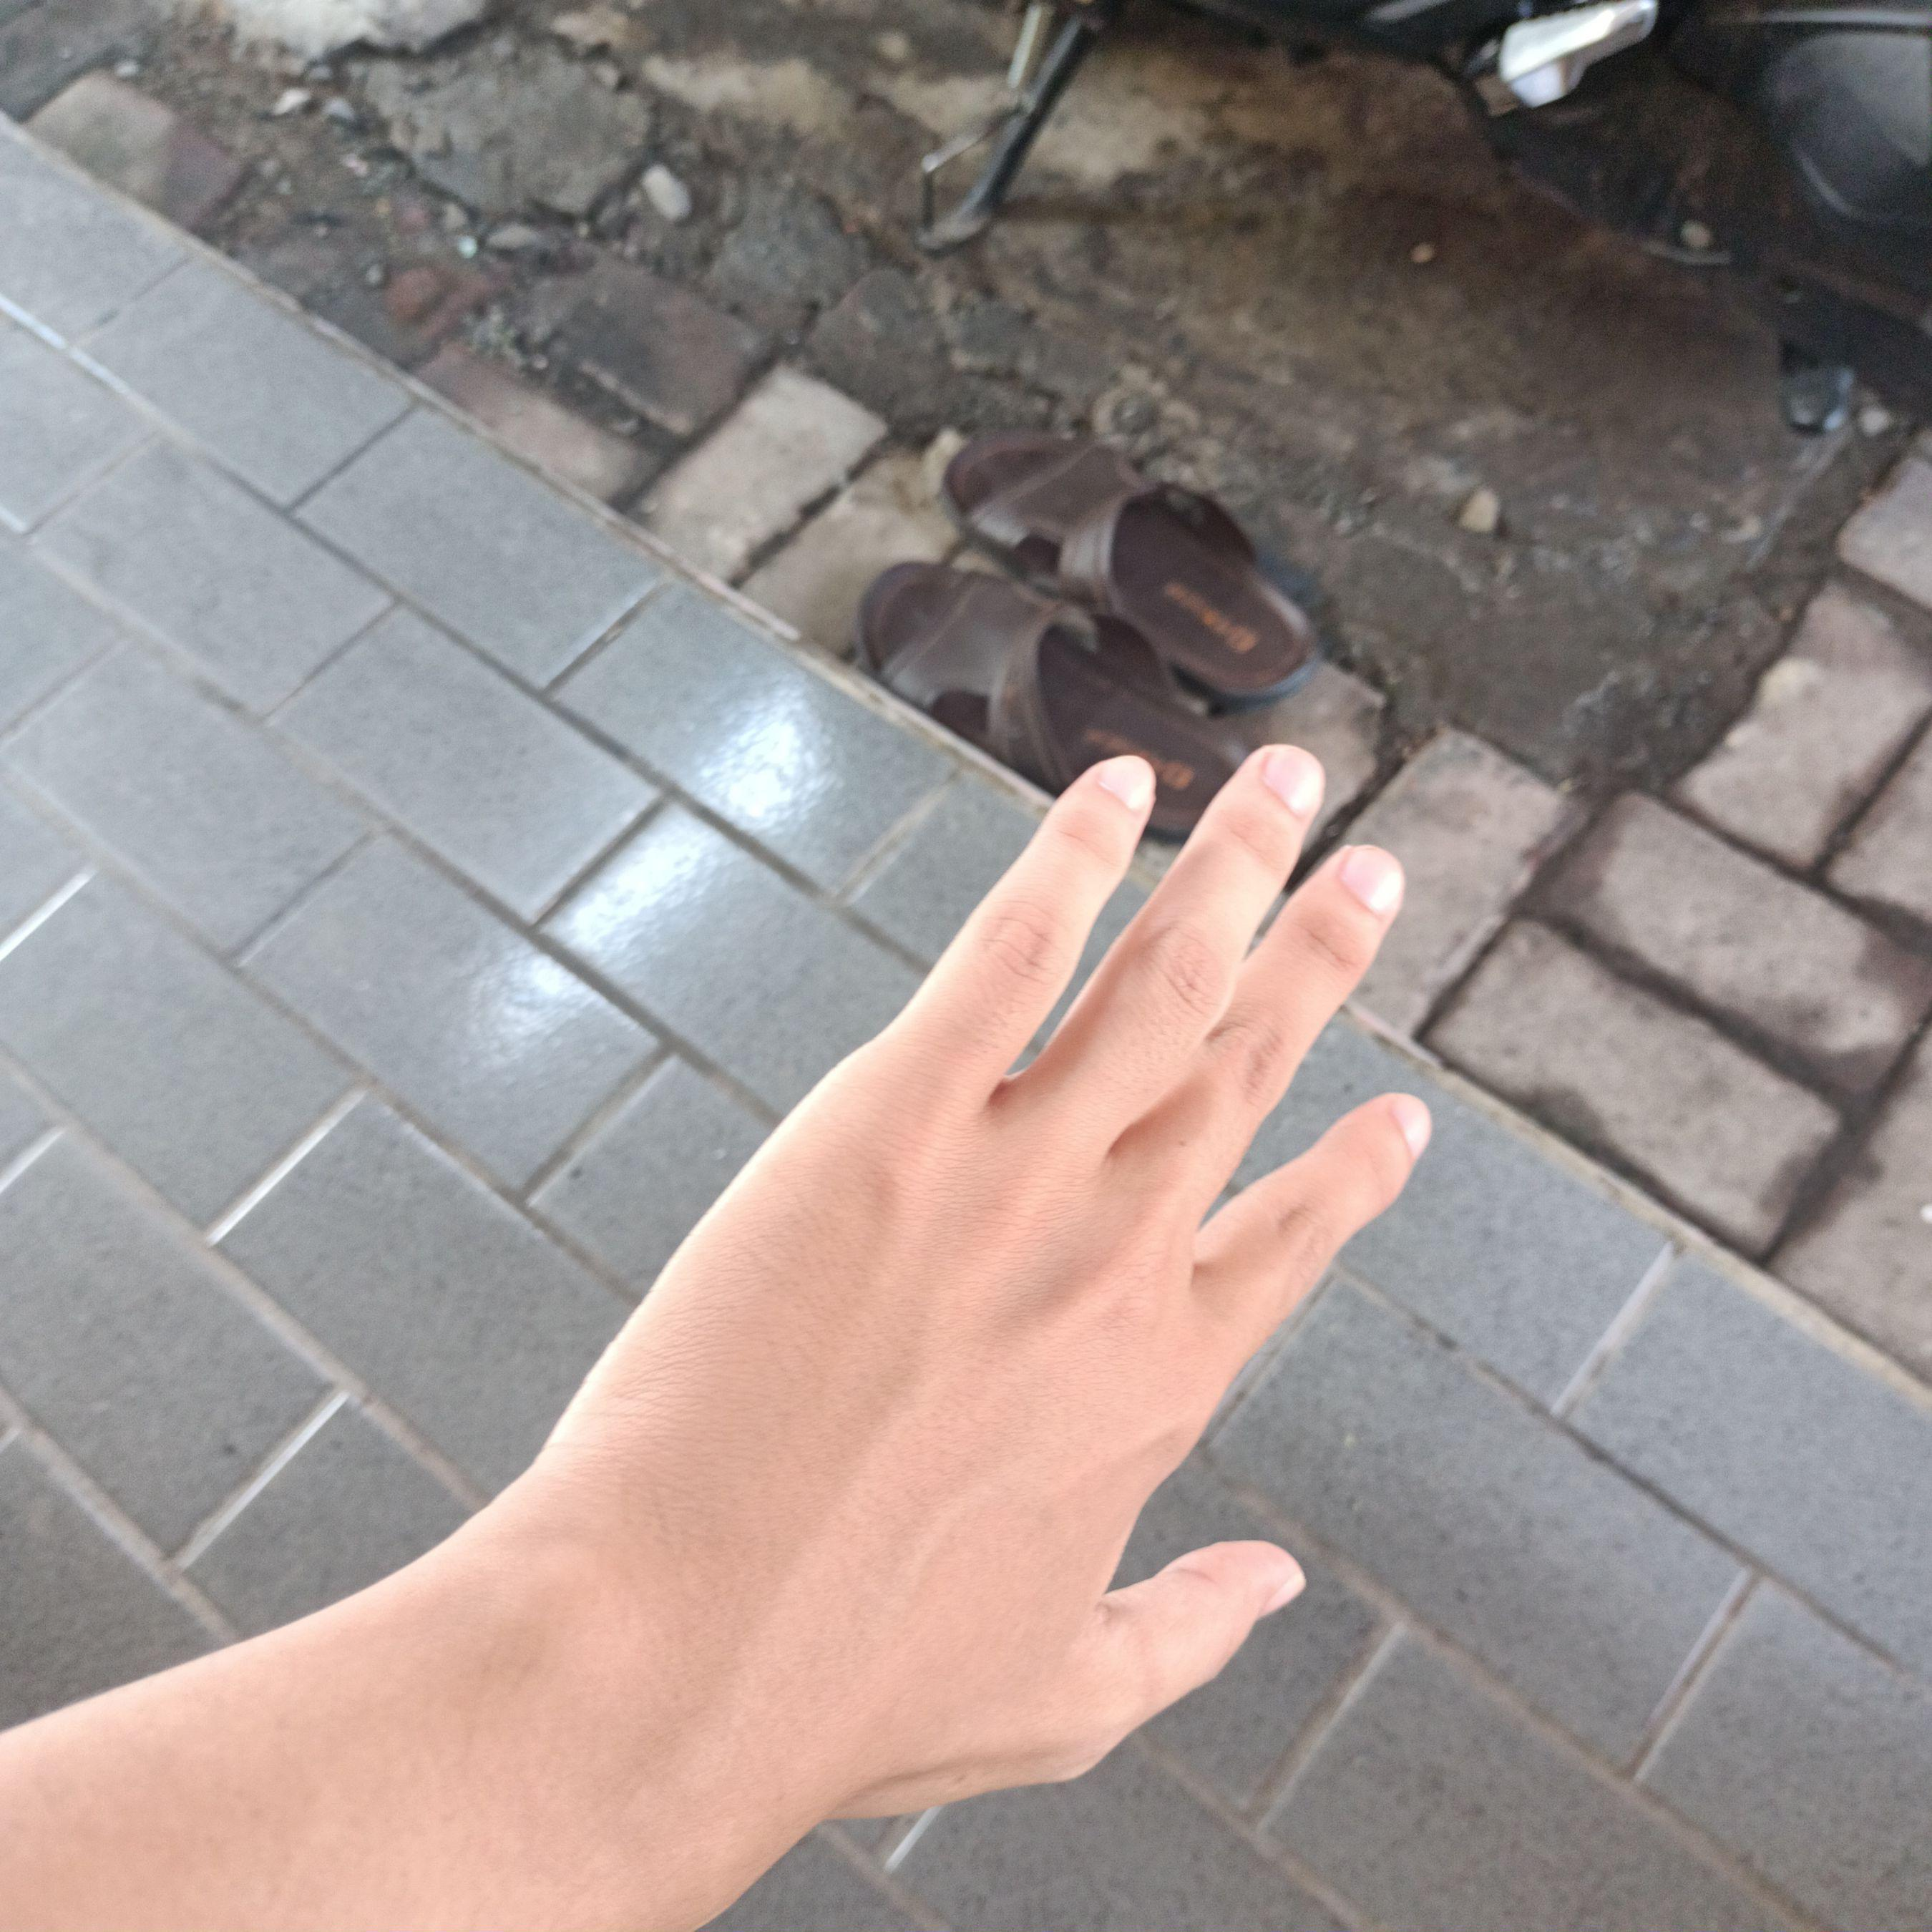paper: (478, 734, 1447, 1842)
